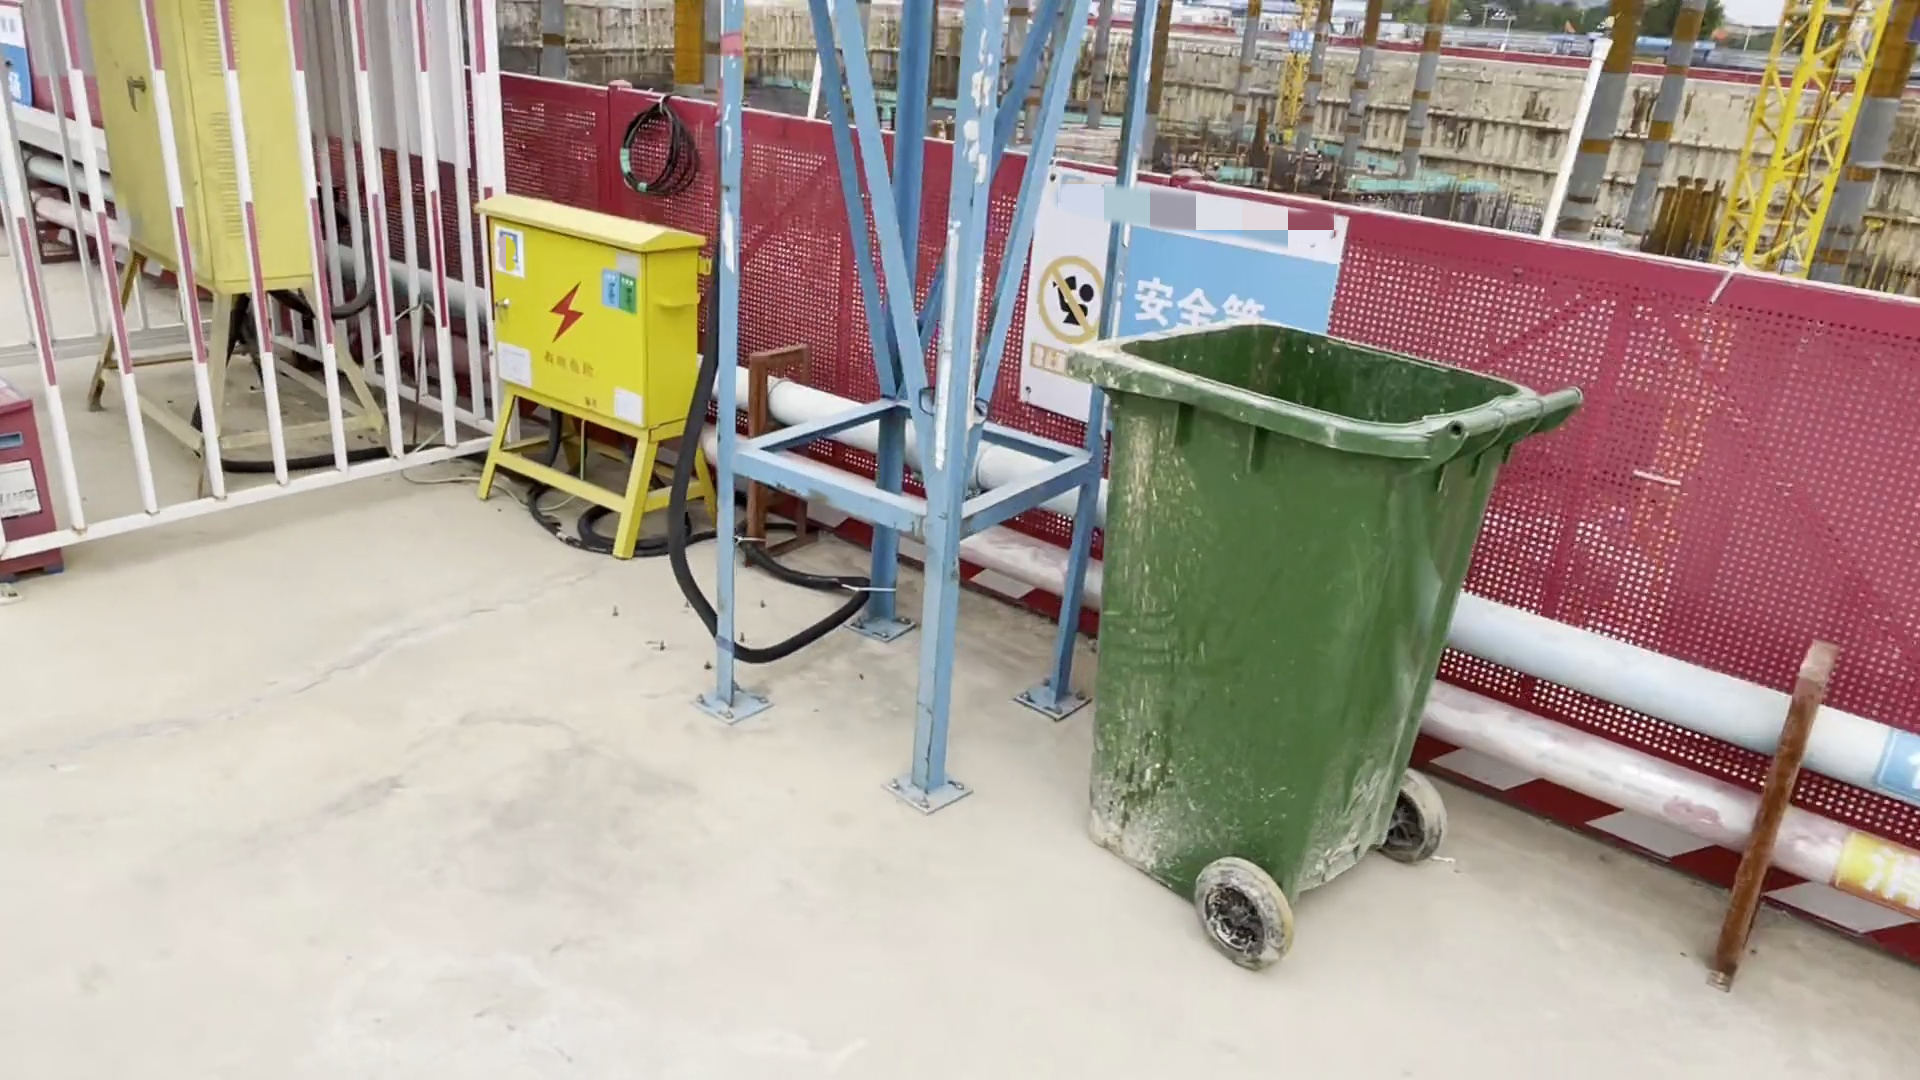ebox: (83, 3, 415, 450), (463, 181, 746, 529)
